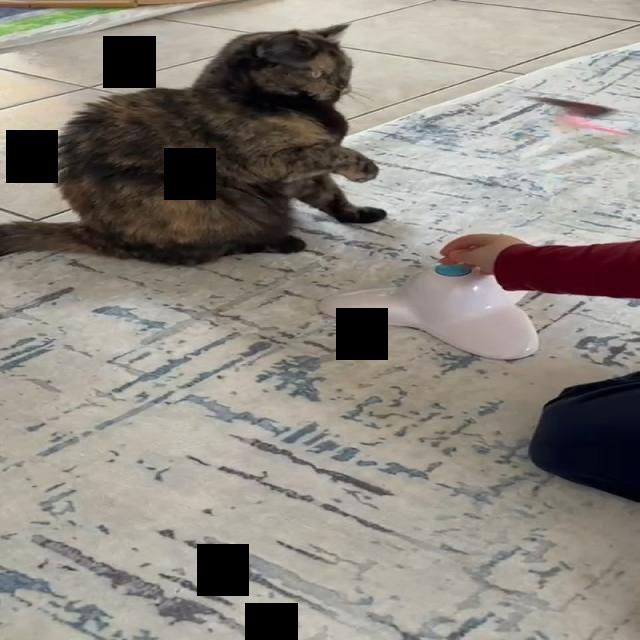authorized: (0, 22, 387, 266)
